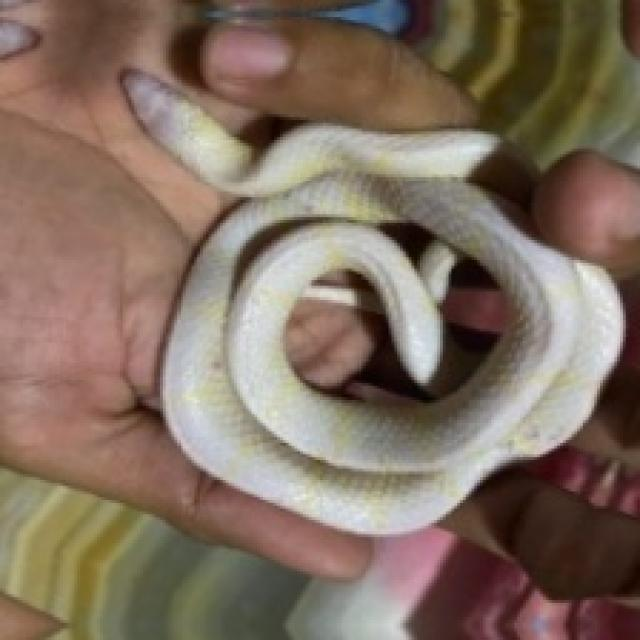gunthers philippine shrub snake: (123, 71, 620, 531), (377, 220, 511, 400)
